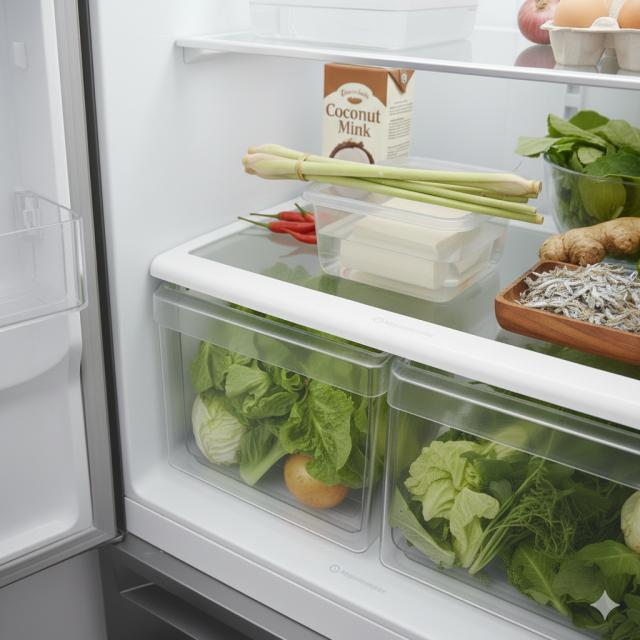anchovies: (517, 263, 640, 333)
cabbage: (188, 389, 244, 467)
chili: (238, 208, 314, 246)
egg: (544, 0, 640, 68)
ginger: (540, 215, 640, 264)
leafy_greens: (393, 427, 640, 637), (193, 343, 370, 488), (517, 111, 640, 216)
lemongrass: (244, 142, 542, 226)
onion: (517, 0, 551, 46)
tofu: (339, 196, 491, 290)
